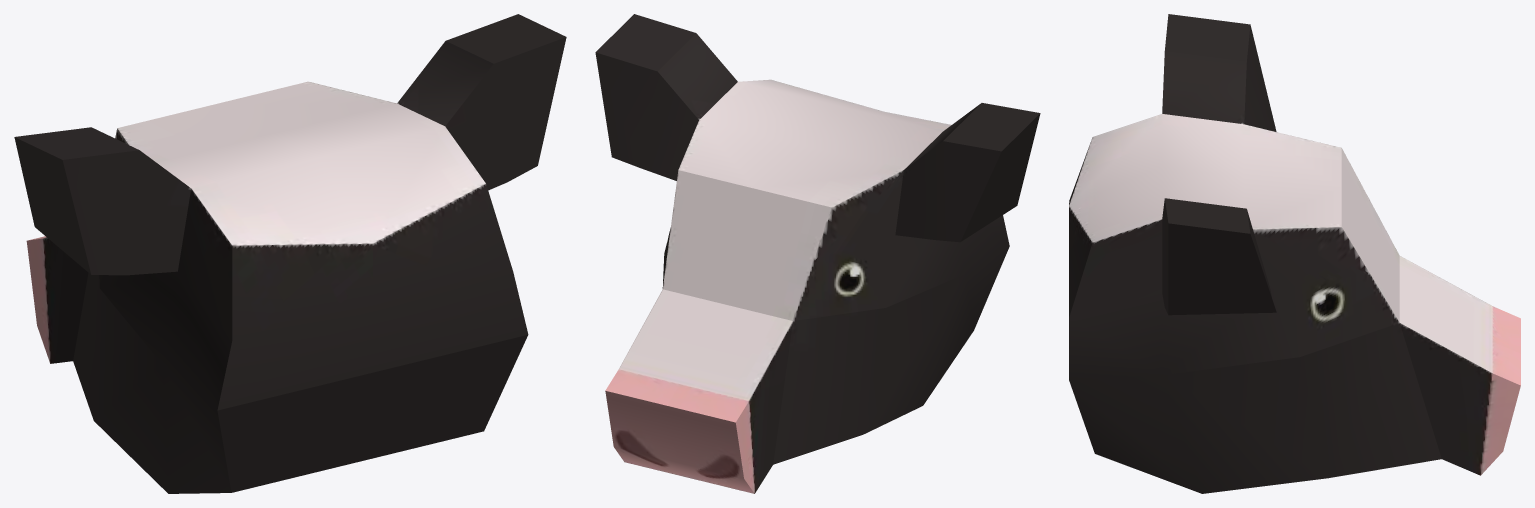
The model's file is cowHead.glb.
The picture shows the model from 3 angles, left to right: view 1: azimuth 30°, elevation 25°; view 2: azimuth 150°, elevation 25°; view 3: azimuth 270°, elevation 25°; orthographic projection. The views are drawn at different scales.
Visible parts, largest first — view 1: cowHead; view 2: cowHead; view 3: cowHead.
Boxes of the visible parts, bbox=[...] form: cowHead: bbox=[14, 14, 566, 493]; cowHead: bbox=[595, 14, 1040, 493]; cowHead: bbox=[1069, 14, 1520, 493].
Size of the model in its own units: 0.3292 by 0.2371 by 0.3002.
1 material, 1 textured.
